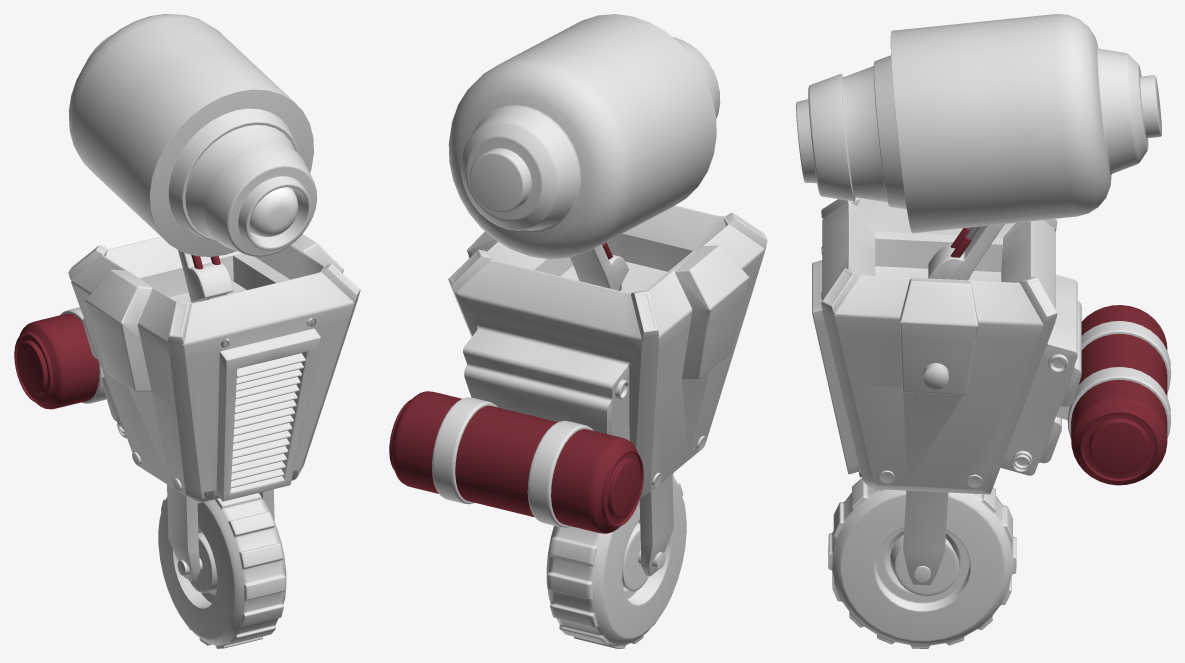
Rendered from Wheel Robot v5.fbx.
3 views of the same model, side by side, from view 1: azimuth 30°, elevation 25°; view 2: azimuth 150°, elevation 25°; view 3: azimuth 270°, elevation 25° (orthographic). The views are drawn at different scales.
Visible parts, largest first — view 1: Body, Head, Tire, Ventilations, Gas tAnk, Neck; view 2: Body, Head, Gas tAnk, Tire, Neck; view 3: Body, Head, Tire, Gas tAnk, Neck, Hand_Axel.
Part boxes in pixels (bbox=[...]): Body: bbox=[68, 234, 360, 581]; Head: bbox=[68, 14, 317, 256]; Tire: bbox=[158, 493, 286, 648]; Ventilations: bbox=[231, 353, 305, 488]; Gas tAnk: bbox=[14, 307, 106, 409]; Neck: bbox=[178, 250, 233, 302]; Body: bbox=[448, 205, 767, 576]; Head: bbox=[448, 14, 720, 259]; Gas tAnk: bbox=[389, 391, 643, 533]; Tire: bbox=[546, 473, 686, 648]; Neck: bbox=[570, 242, 628, 290]; Body: bbox=[812, 197, 1081, 585]; Head: bbox=[796, 14, 1161, 233]; Tire: bbox=[828, 478, 1016, 648]; Gas tAnk: bbox=[1056, 305, 1170, 485]; Neck: bbox=[928, 224, 1004, 280]; Hand_Axel: bbox=[923, 363, 948, 389].
Bounding box in the file's own units: 54.89 × 135 × 74.53.
